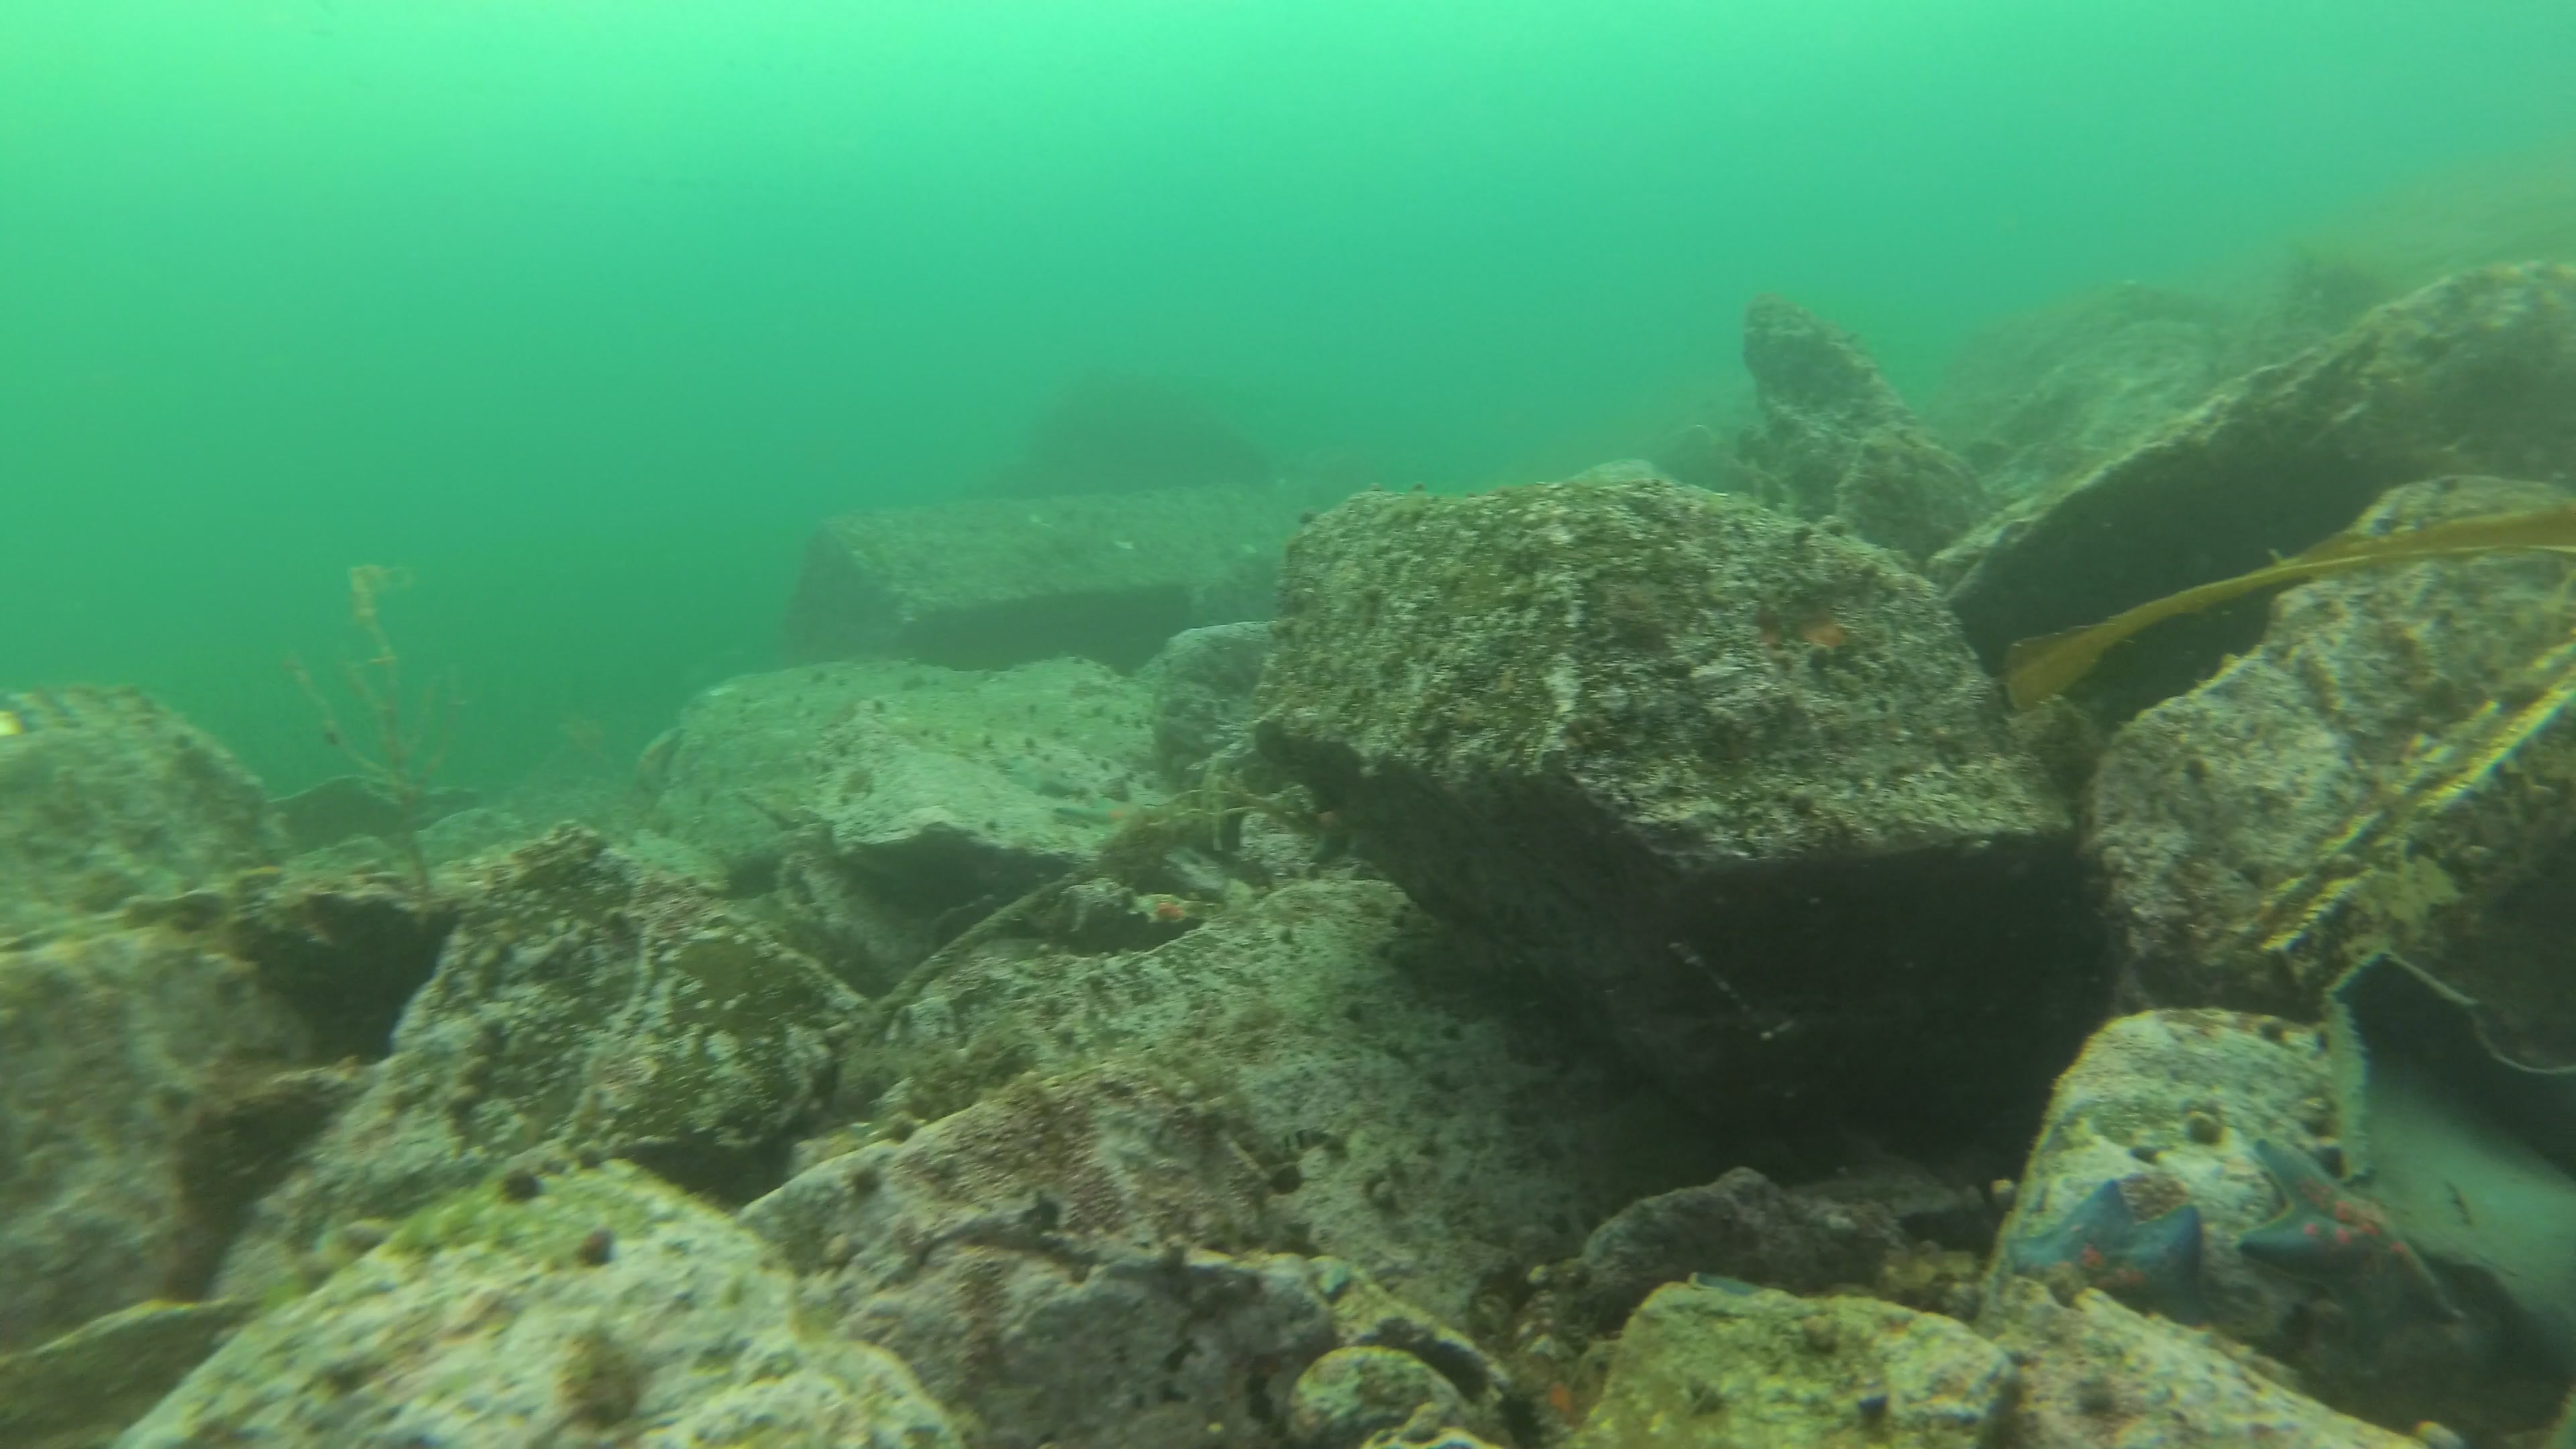starfish: (2240, 1132, 2468, 1371), (2008, 1182, 2210, 1341), (1053, 800, 1154, 837)
